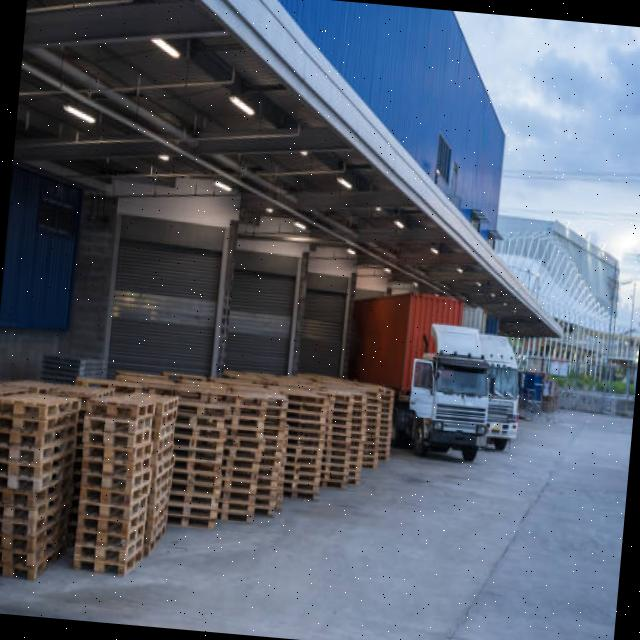Wooden-Pallets: (80, 386, 147, 433), (73, 486, 140, 530), (76, 440, 142, 478), (69, 550, 129, 585), (0, 390, 49, 430), (0, 465, 43, 499)
